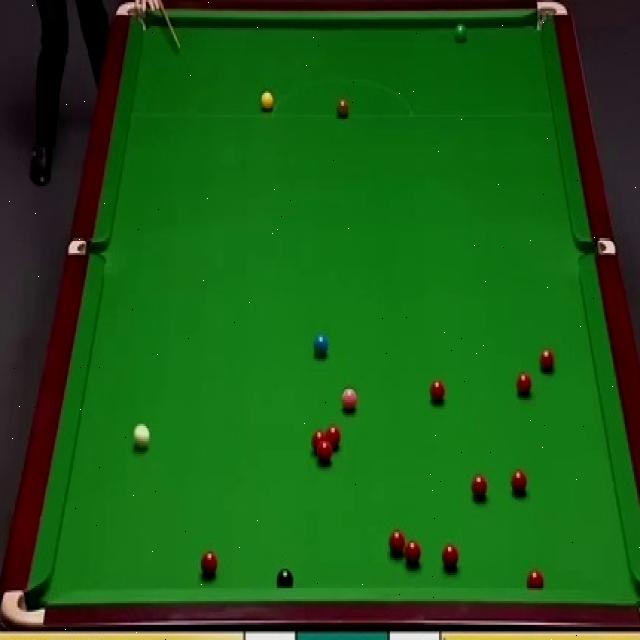black-ball: (276, 568, 296, 590)
blue-ball: (312, 333, 330, 356)
brown-ball: (336, 95, 349, 117)
green-ball: (453, 23, 468, 44)
pink-ball: (341, 388, 358, 415)
red-ball: (441, 544, 460, 574), (470, 474, 490, 502), (426, 376, 446, 404), (199, 550, 218, 578), (511, 469, 530, 496), (405, 537, 421, 569), (388, 530, 406, 558), (516, 372, 532, 399), (311, 430, 326, 457), (326, 425, 341, 451), (540, 348, 556, 372), (526, 568, 545, 588), (317, 444, 333, 465)
white-ball: (130, 424, 151, 452)
yellow-ball: (259, 93, 273, 111)
